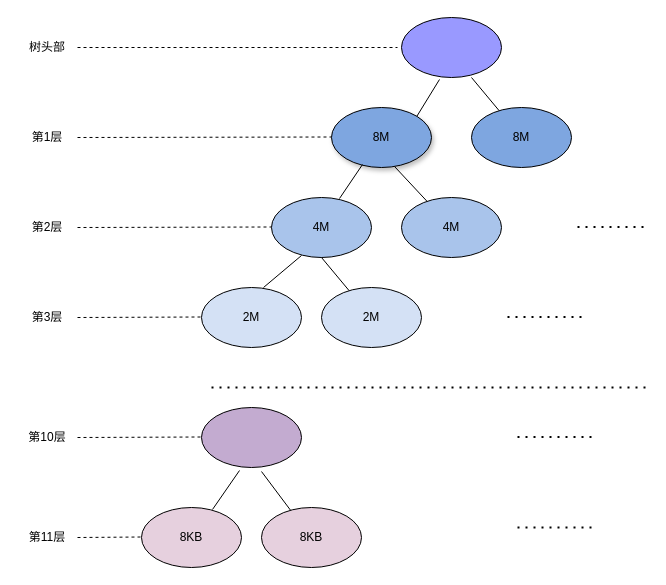
The diagram is 666 pixels wide and 585 high, and some of its shapes have lost their labels. Here are the shapes that lost their labels. From the top down, the centre of each, then its label:
At point 451,47: "16M".
At point 251,437: "16KB".
